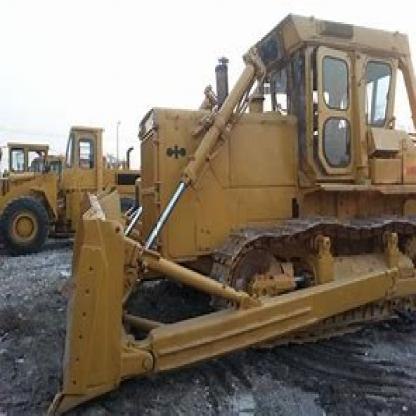bull_dozer/loader/grader: (49, 4, 415, 408)
